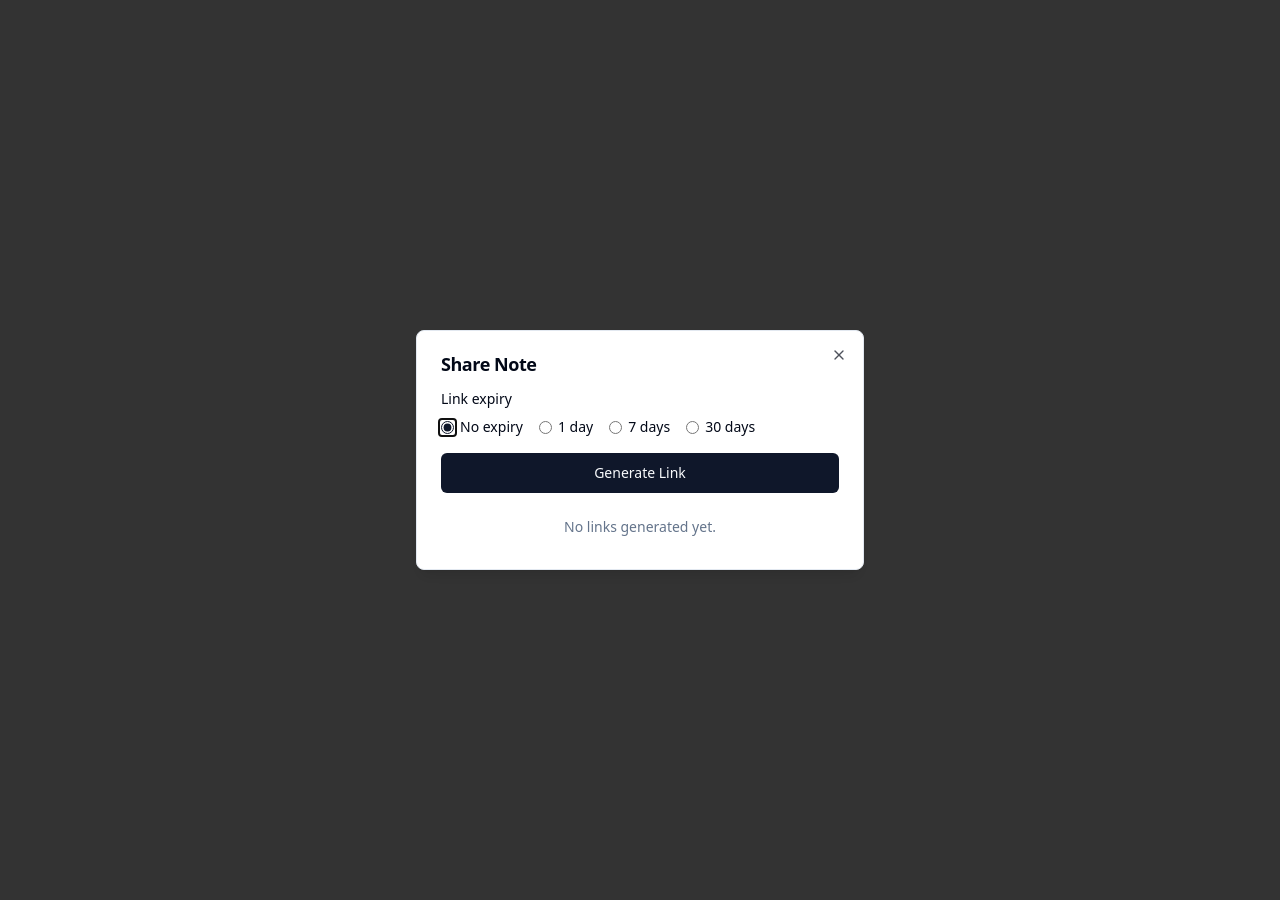
Test: ShareModal › removes the revoked link from the list on mutation success
Click the button "Generate Link": (640,473) [441, 453, 839, 493]
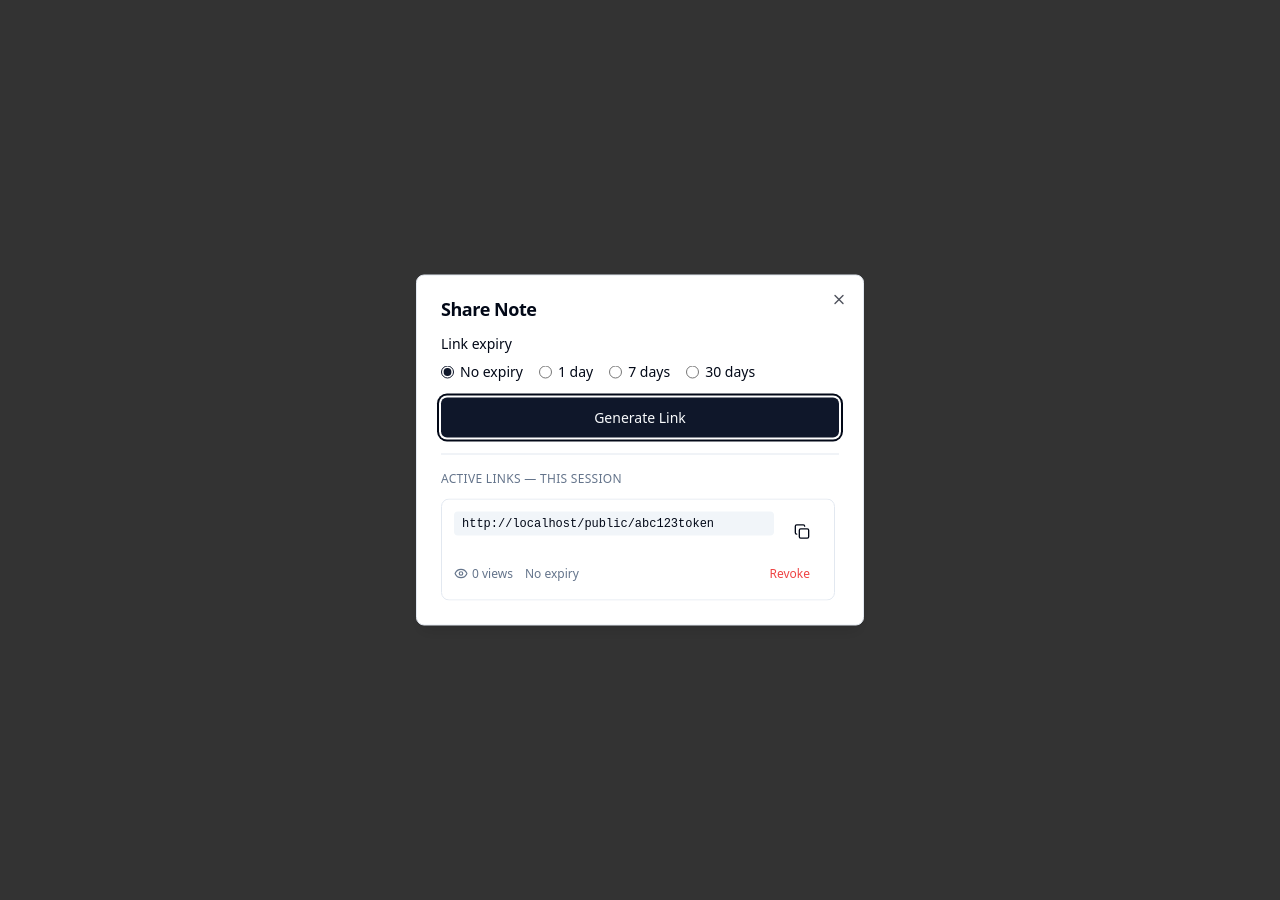
Check: the text "abc123token" is shown, box [462, 516, 714, 530]
Click the button "Revoke": (790,574) [758, 560, 822, 588]
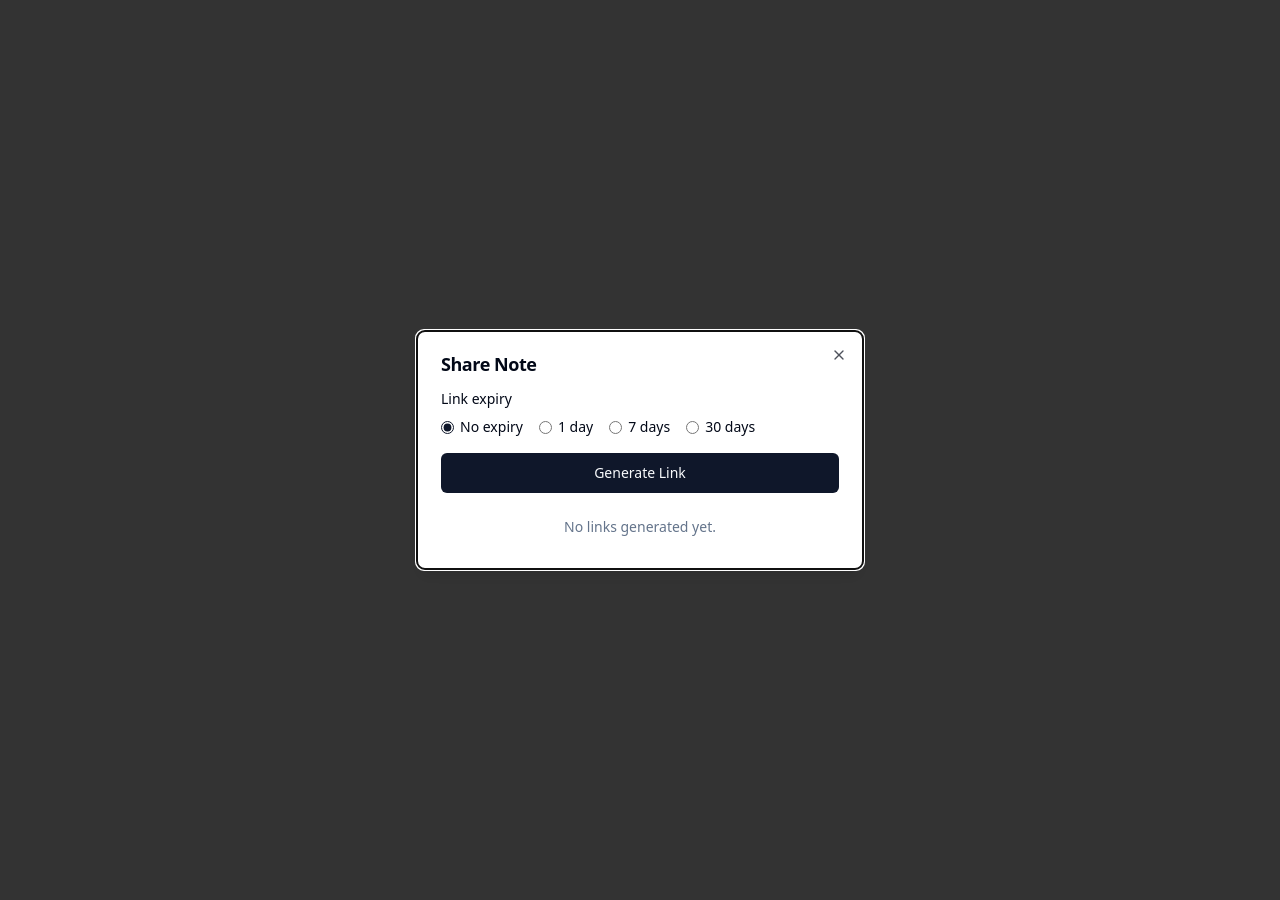
Check: the text "abc123token" is gone
